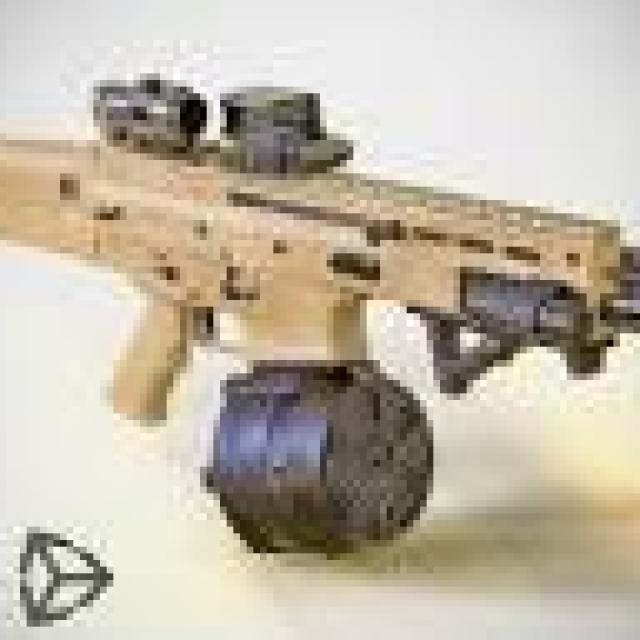Gun: (0, 61, 640, 487)
